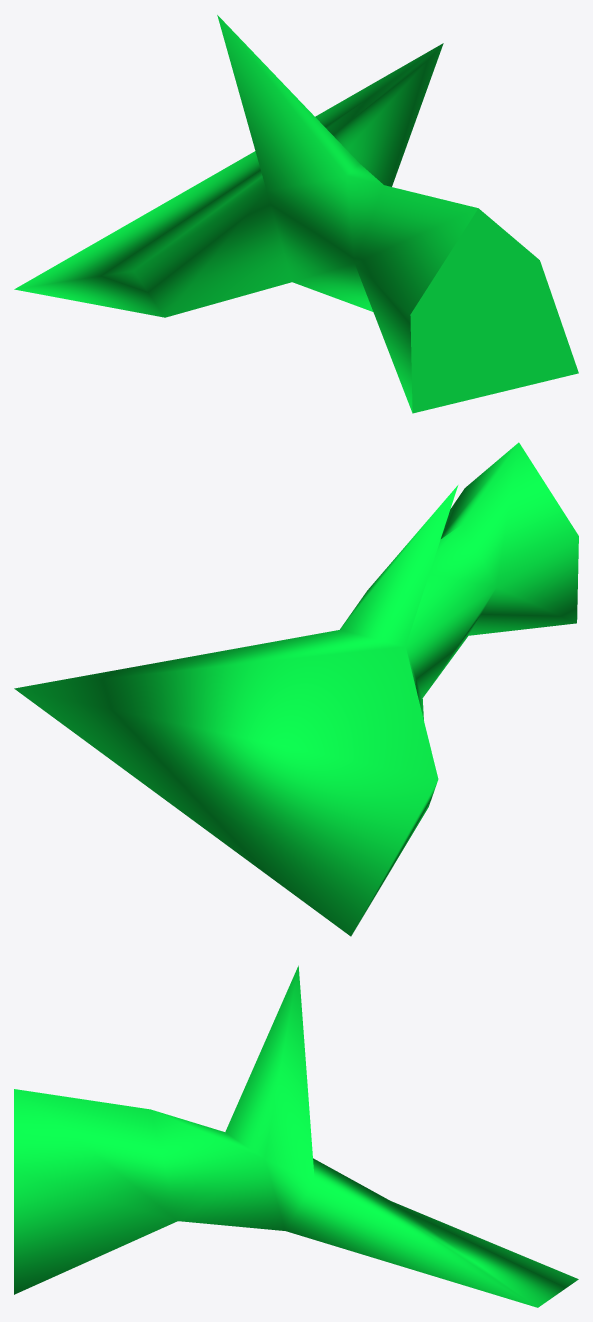
Rendered from Plant02_c_col.FBX.
3 views of the same model, one above another, from view 1: azimuth 30°, elevation 25°; view 2: azimuth 150°, elevation 25°; view 3: azimuth 270°, elevation 25° (orthographic). The views are drawn at different scales.
Visible parts, largest first — view 1: Plant02_c_col; view 2: Plant02_c_col; view 3: Plant02_c_col.
Part boxes in pixels (<box>): Plant02_c_col: <box>14,15,578,413</box>; Plant02_c_col: <box>14,442,578,936</box>; Plant02_c_col: <box>14,965,578,1307</box>.
Bounding box in the file's own units: 468 × 423 × 654.
